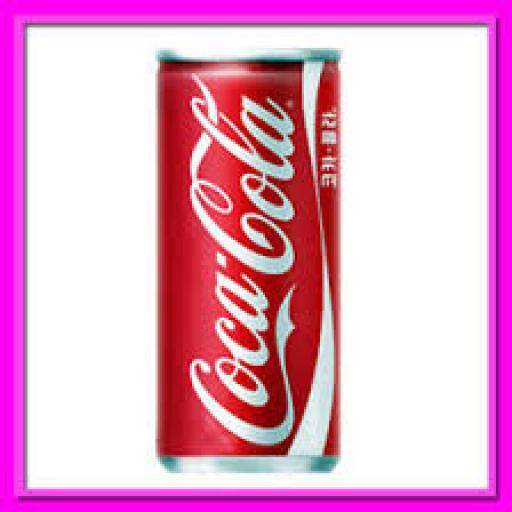Coca: (149, 40, 351, 479)
